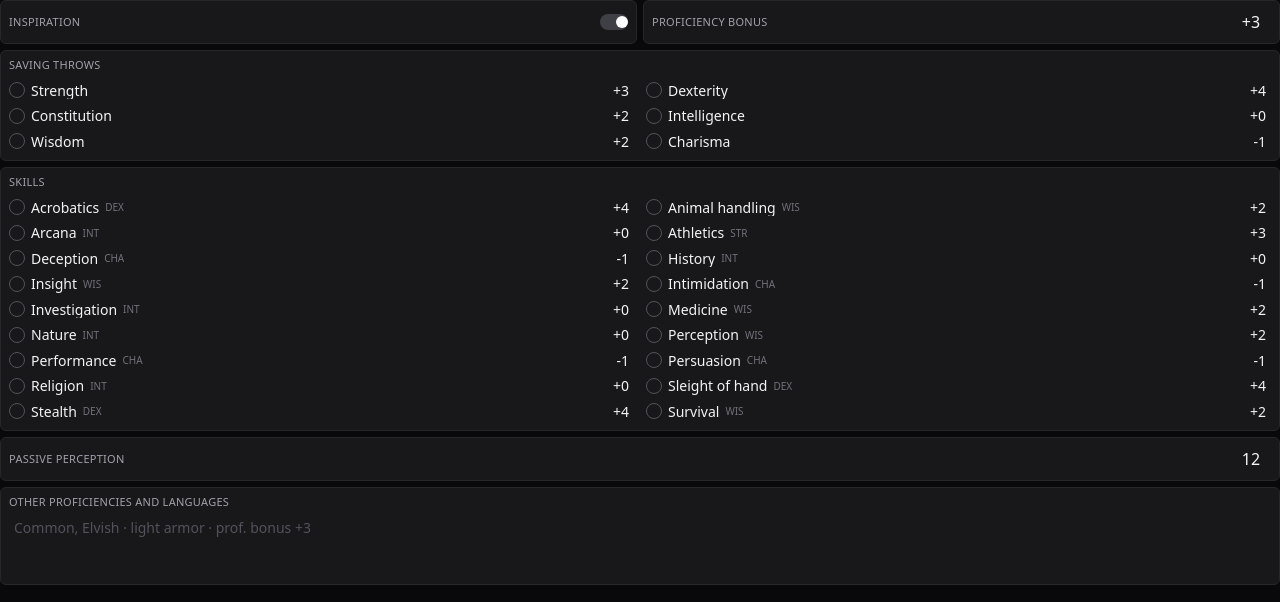
Test: SkillList › allows overriding a skill total and resetting it to auto
This screenshot has width=1280, height=602.
Replace the text in the field named "Stealth total" with "9" at (616, 411), box [598,400,634,423]
Then press Enter
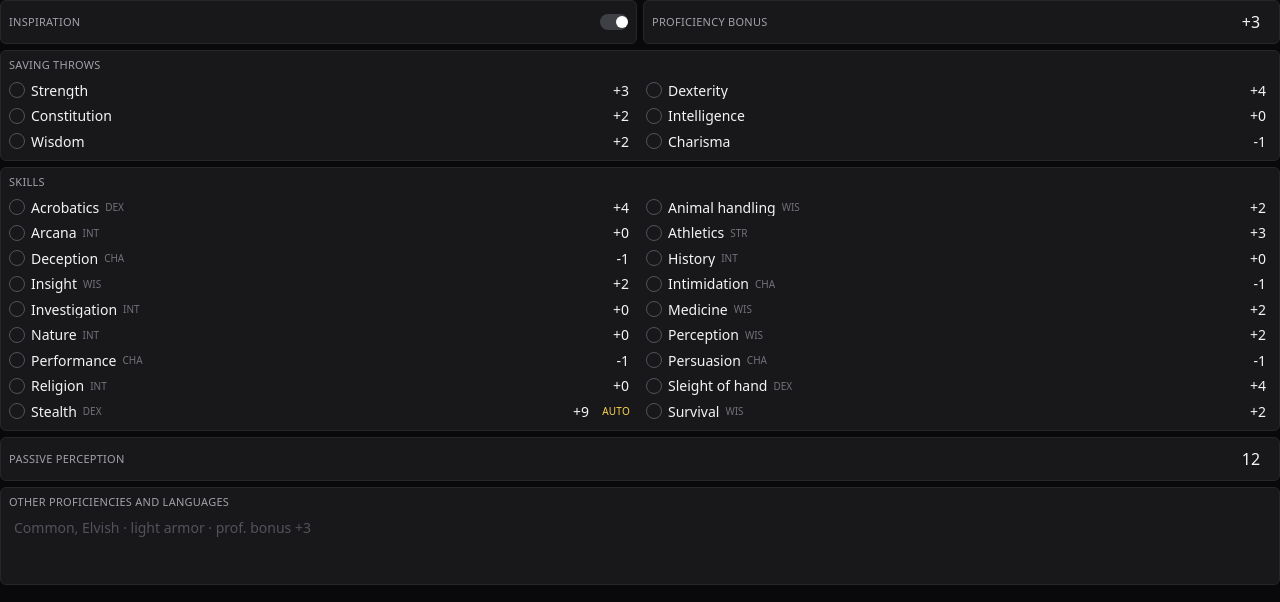
expect the field named "Stealth total" holds "+9": met, box [558,400,594,423]
Click the button with aria-label "Reset Stealth total to auto".
click(616, 411)  # box [598,405,634,418]
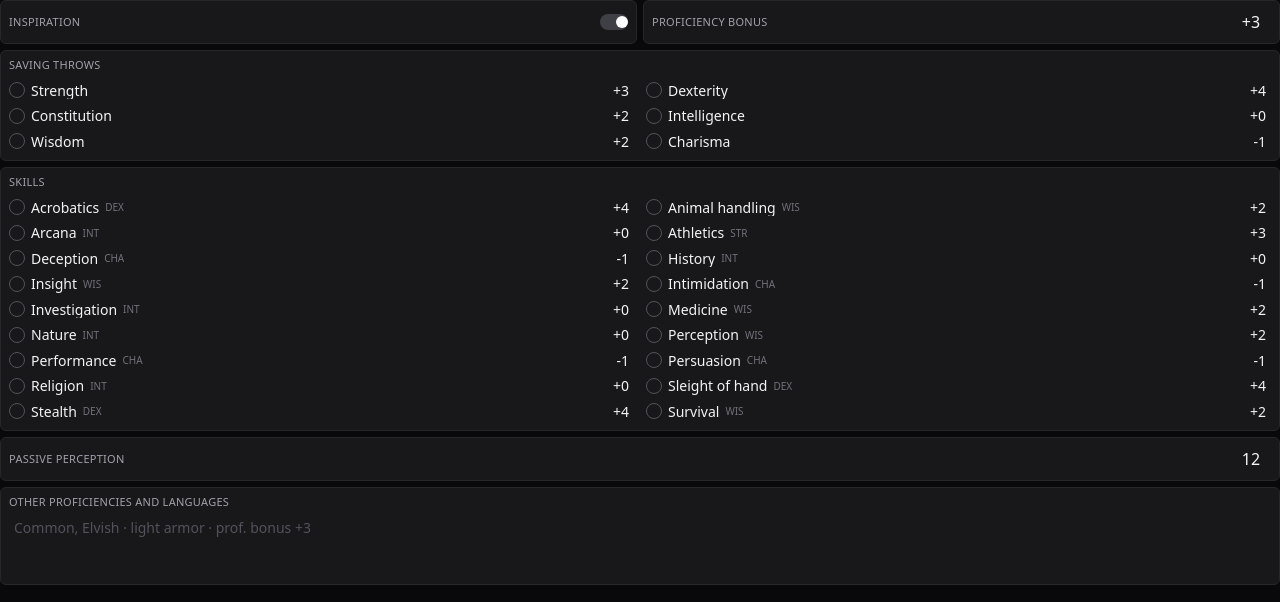
expect the field named "Stealth total" holds "+4": met, box [598,400,634,423]
